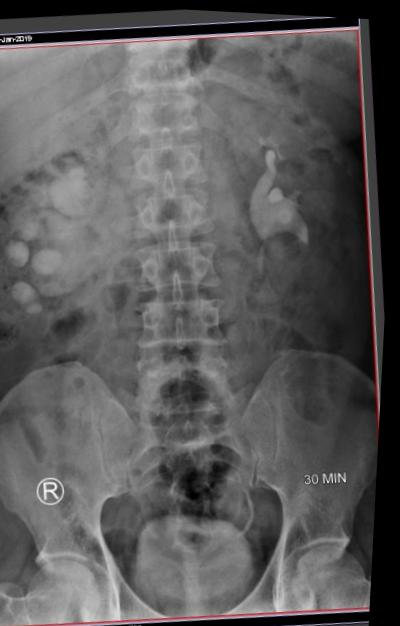bladder: (141, 519, 280, 625)
left kidney: (230, 58, 354, 245)
vertebrae: (139, 125, 219, 181)
